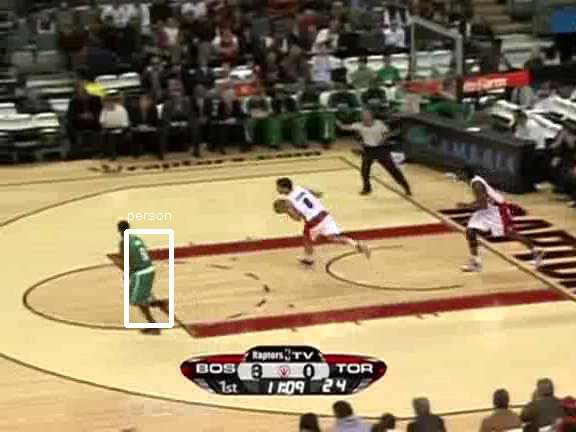person: (122, 229, 156, 310), (121, 229, 155, 310), (123, 229, 157, 310), (122, 228, 156, 309), (122, 230, 156, 311)
target_negative: (86, 296, 567, 394), (232, 128, 296, 169), (178, 362, 241, 401), (545, 168, 549, 373), (140, 424, 221, 431)
